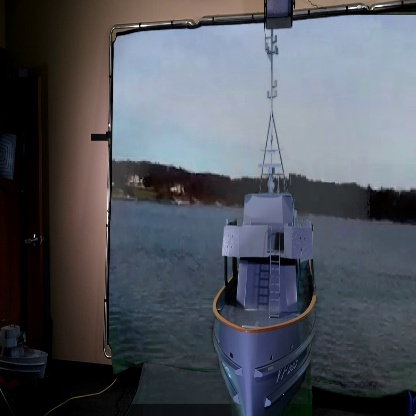YP689: (214, 30, 319, 416)
